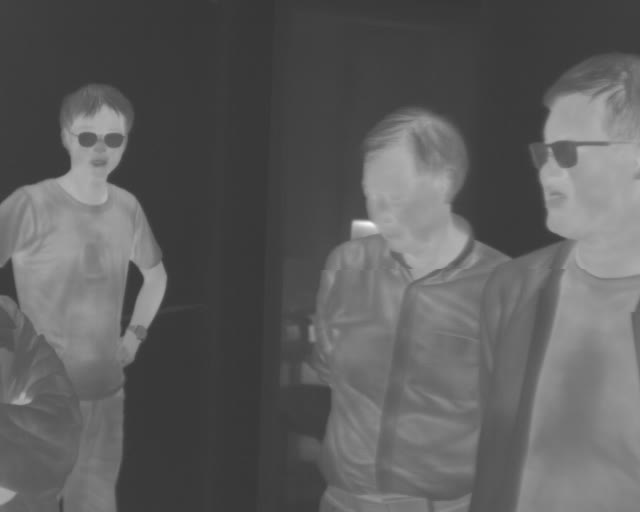face: (533, 51, 640, 239), (360, 107, 472, 252), (59, 82, 134, 183)
